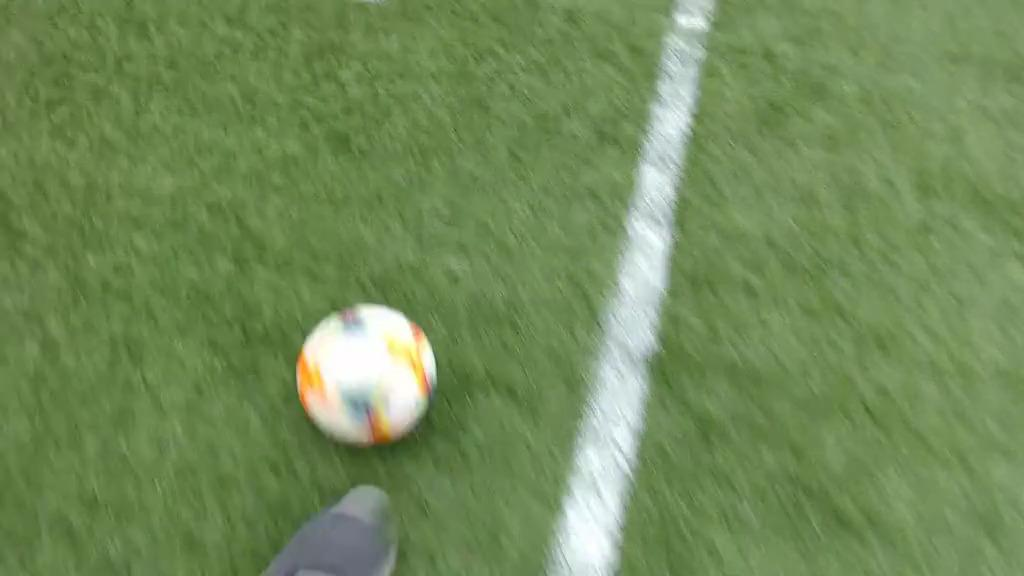ball: (295, 304, 436, 446)
